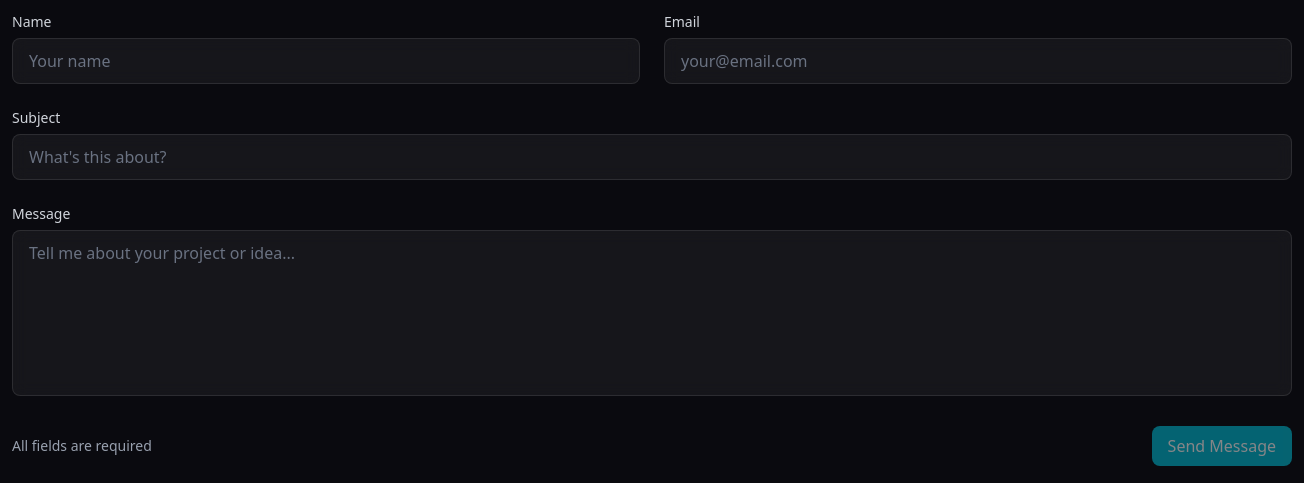
Scenario: ContactForm › shows loading state during submission
The image size is (1304, 483).
Type "John Doe" into the field labelled "Name" at (326, 61), box [12, 38, 640, 84]
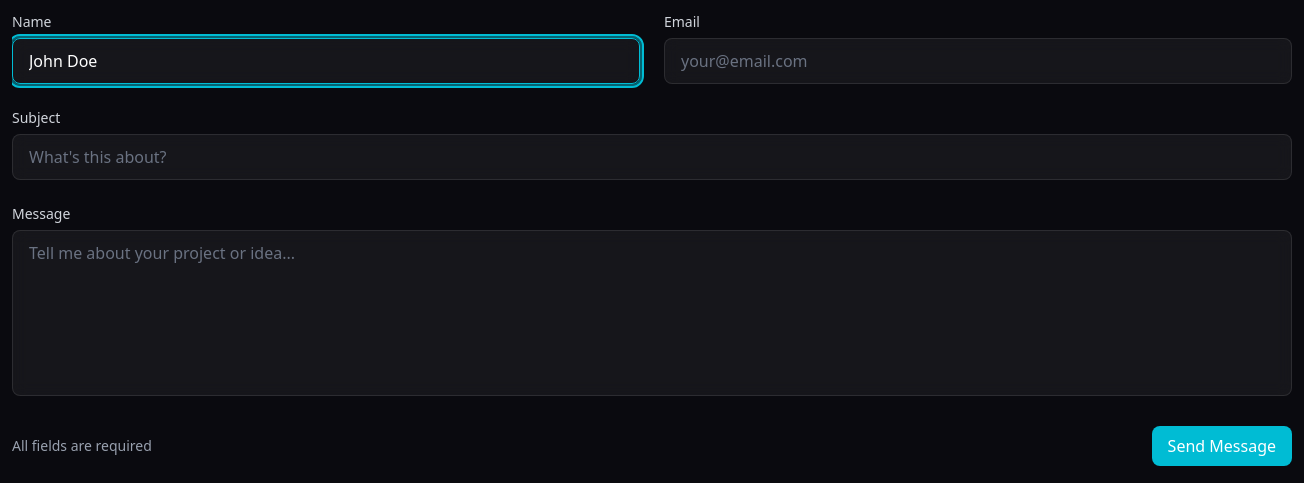
Type "john@example.com" into the field labelled "Email" at (978, 61), box [664, 38, 1292, 84]
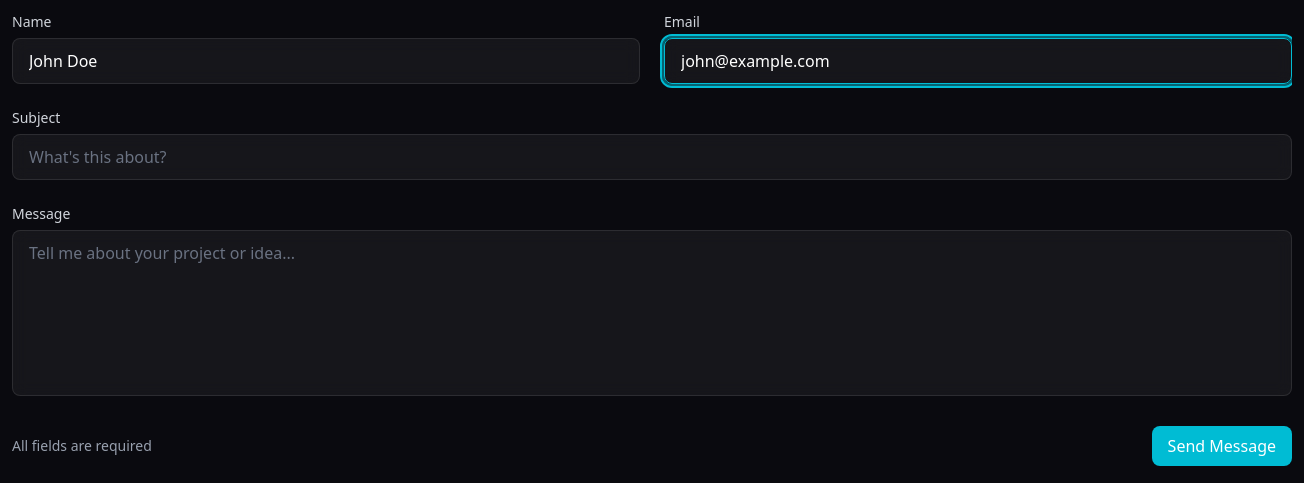
Type "Test Subject" into the field labelled "Subject" at (652, 157), box [12, 134, 1292, 180]
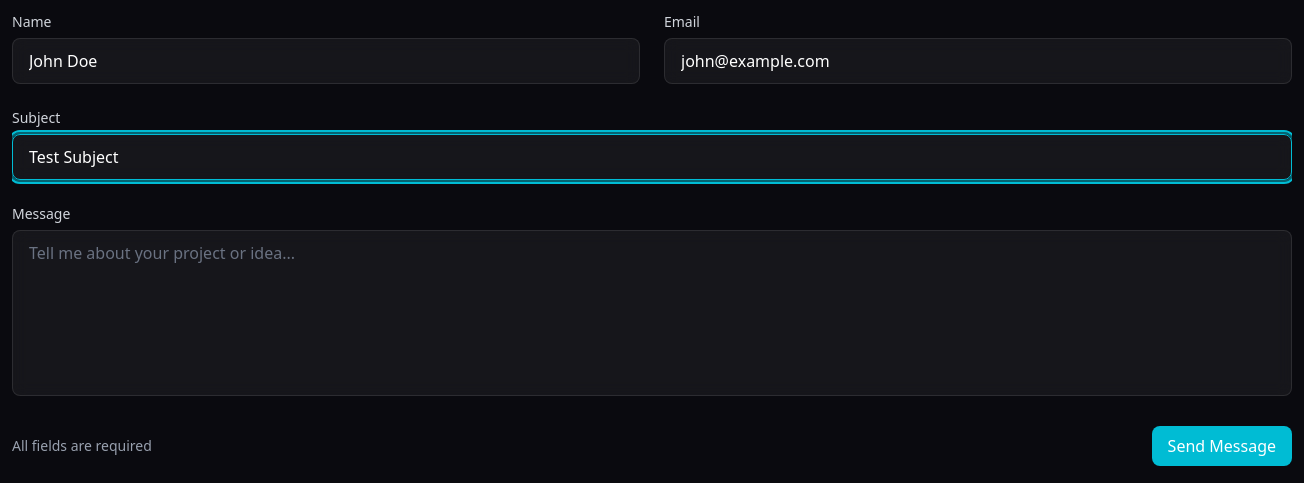
Type "This is a test message with enough characters to pass validation." into the text box labelled "Message" at (652, 313), box [12, 230, 1292, 396]
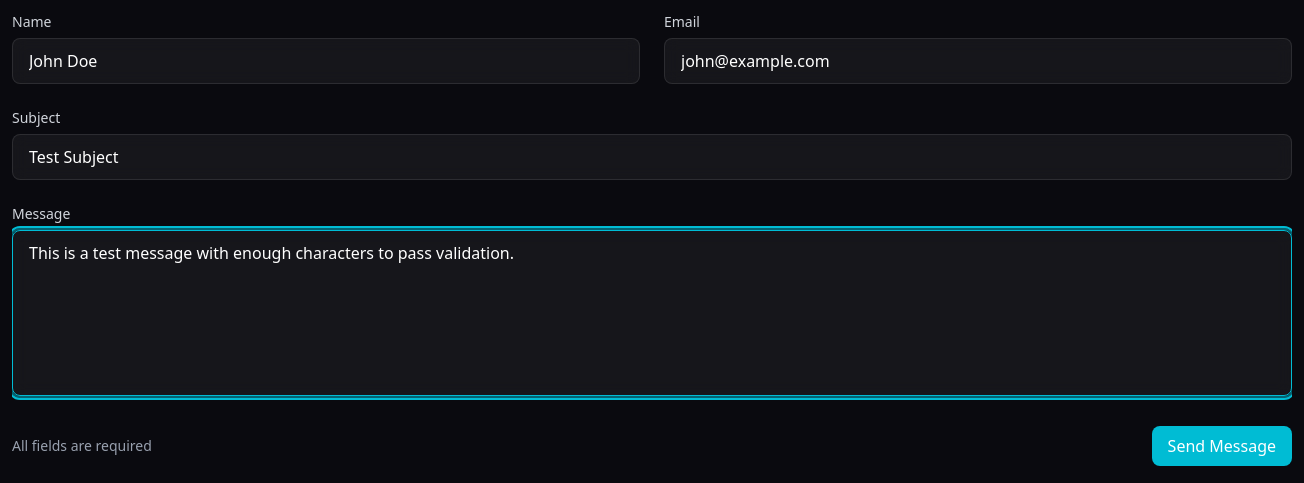
Click the button "Send Message" at (1222, 446), box [1152, 426, 1292, 466]
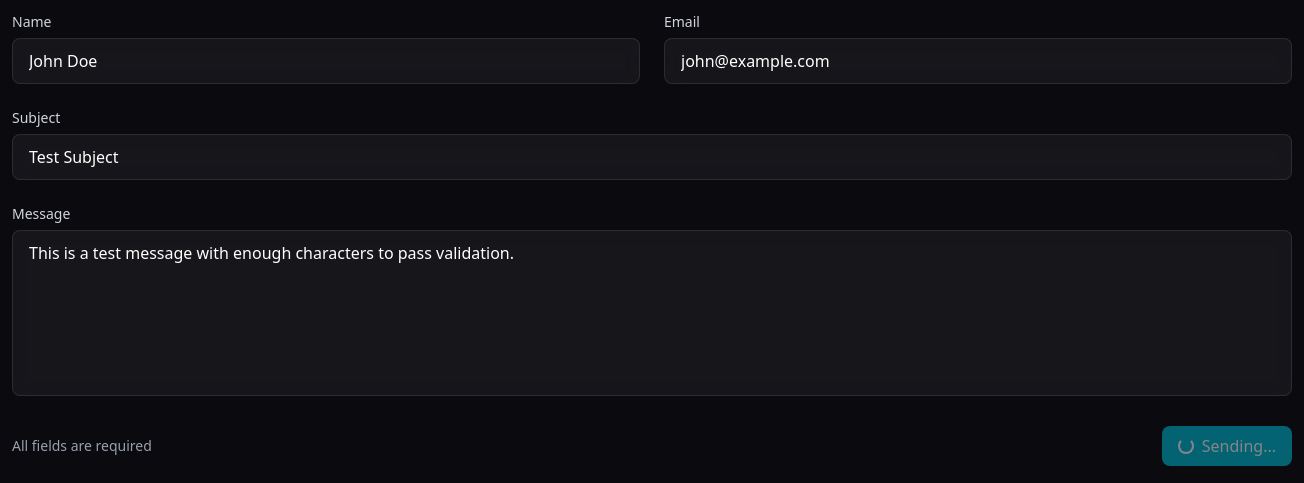
Check: the button "Sending..." is shown, box [1162, 426, 1292, 466]
